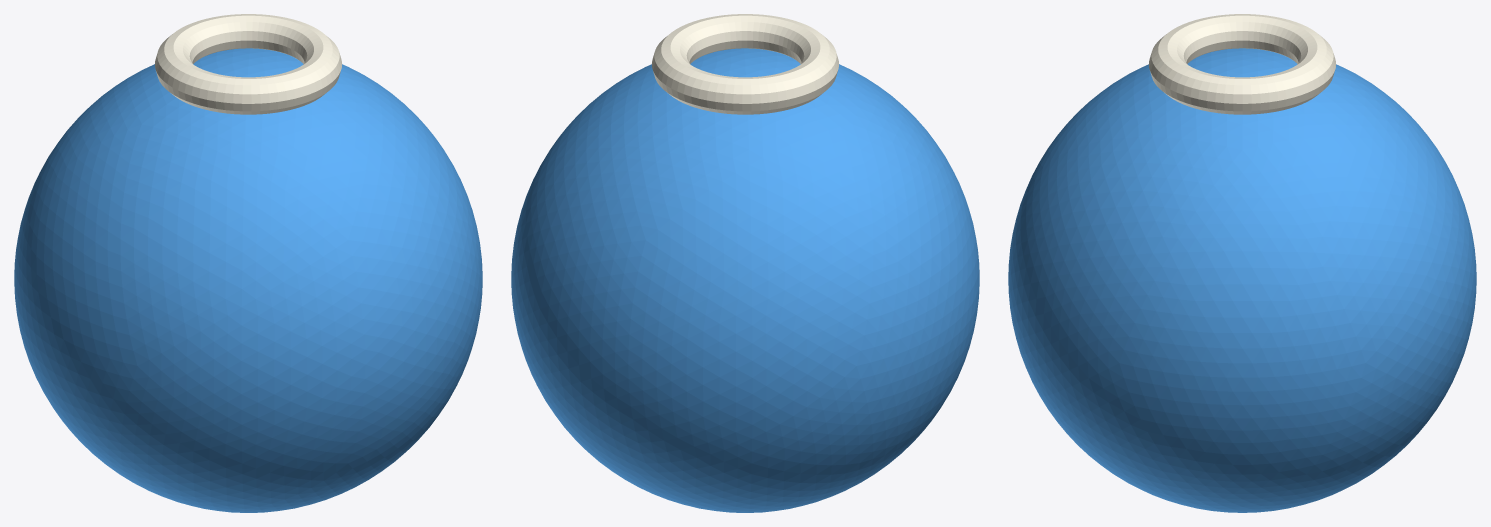
The model's file is modelo.glb.
The picture shows the model from 3 angles, left to right: view 1: azimuth 30°, elevation 25°; view 2: azimuth 150°, elevation 25°; view 3: azimuth 270°, elevation 25°; orthographic projection.
Parts seen in each view (by area): view 1: neutron, simbolo_zero; view 2: neutron, simbolo_zero; view 3: neutron, simbolo_zero.
Boxes of the visible parts, x1=… form: neutron: x1=14, y1=48, x2=482, y2=512; simbolo_zero: x1=155, y1=14, x2=341, y2=114; neutron: x1=511, y1=48, x2=979, y2=512; simbolo_zero: x1=652, y1=14, x2=838, y2=114; neutron: x1=1008, y1=48, x2=1476, y2=512; simbolo_zero: x1=1148, y1=14, x2=1336, y2=114.
Bounding box in the file's own units: 0.2 × 0.209 × 0.2.
